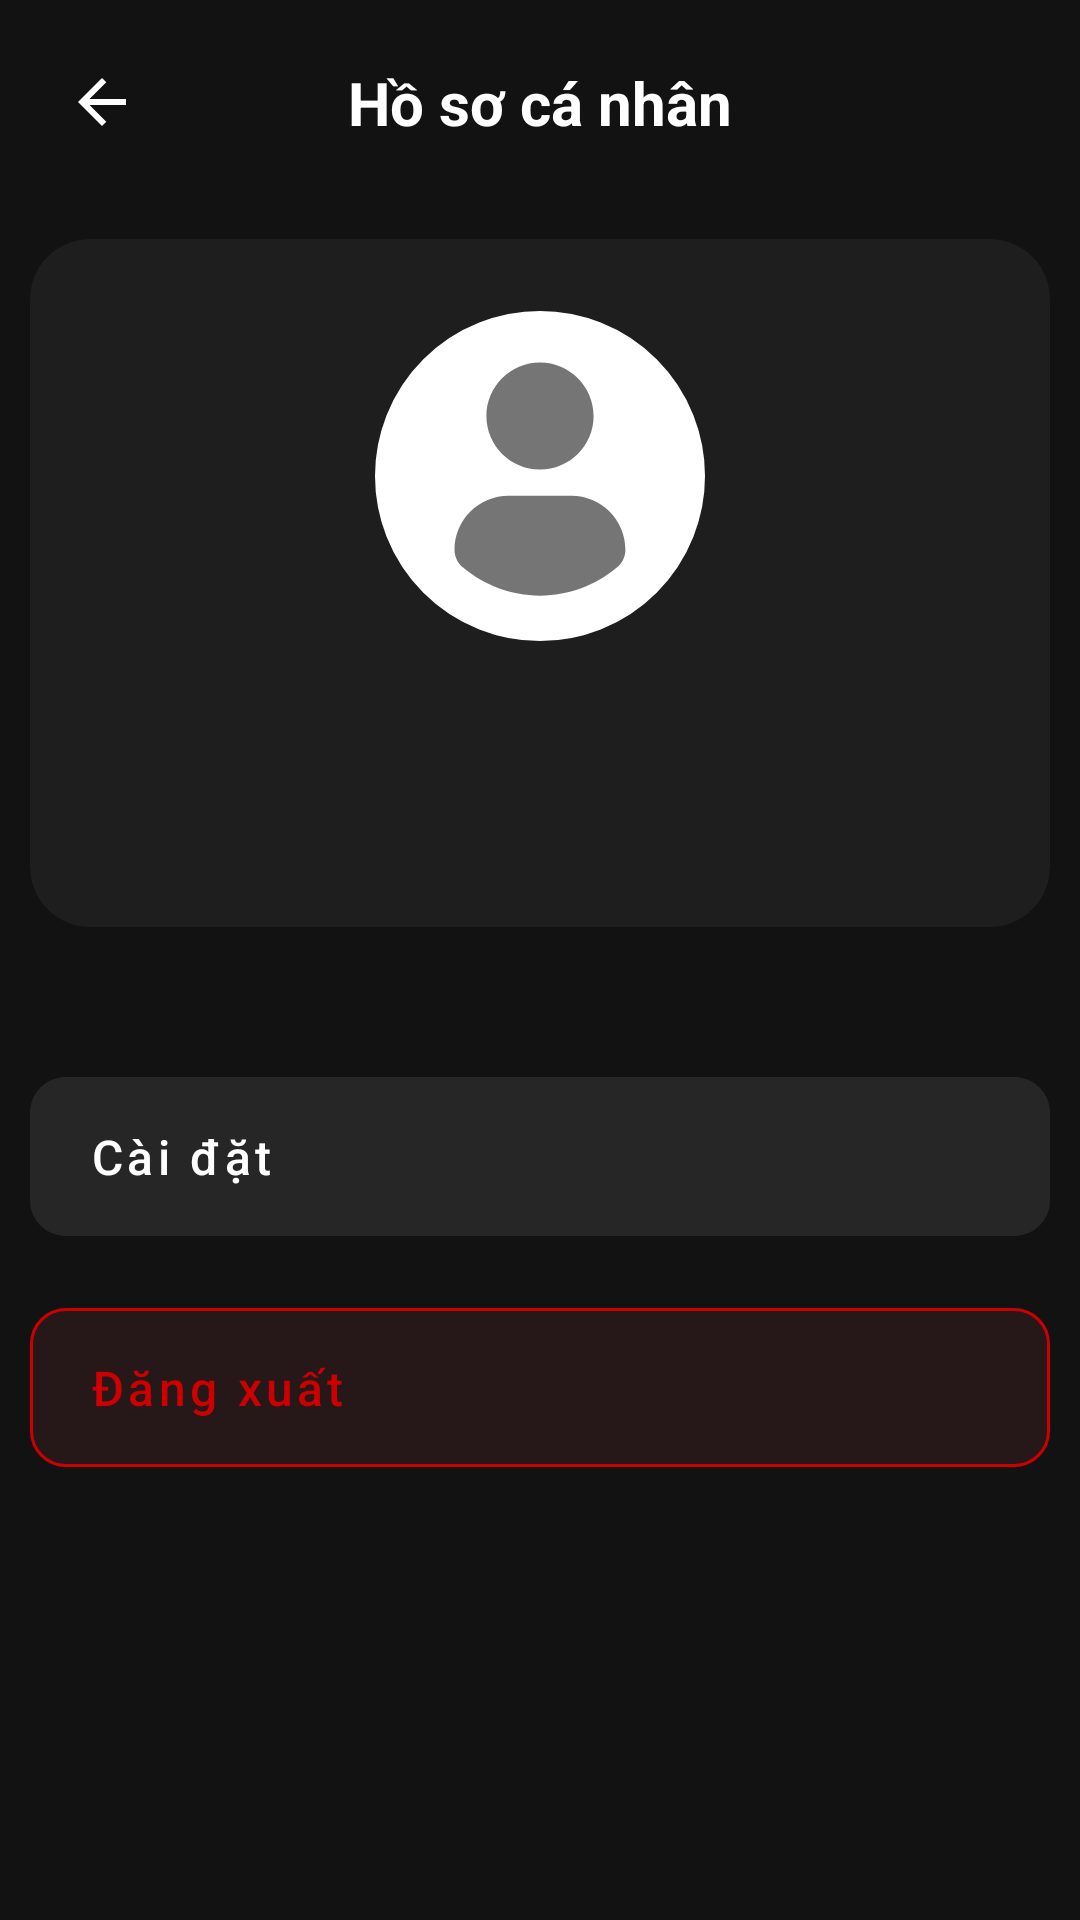

Named icons in this screenshot (1080x1920) and their centers, (x,y):
Back: (102,102)
profile: (540,476)
